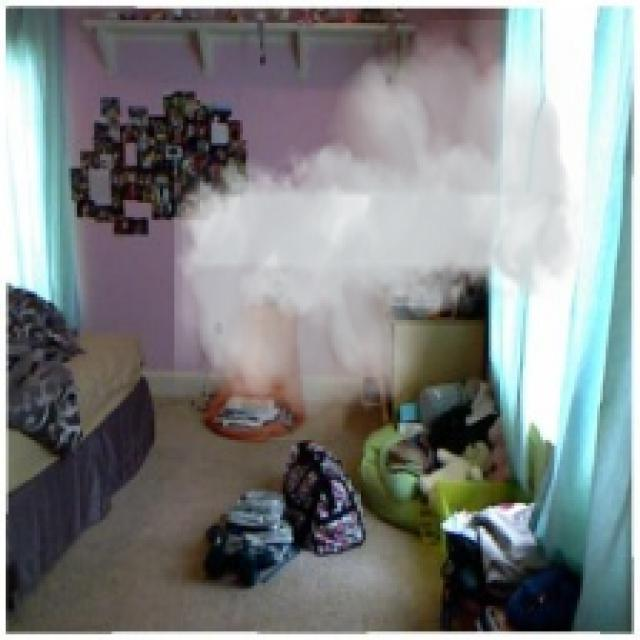Smoke: (174, 20, 586, 440)
